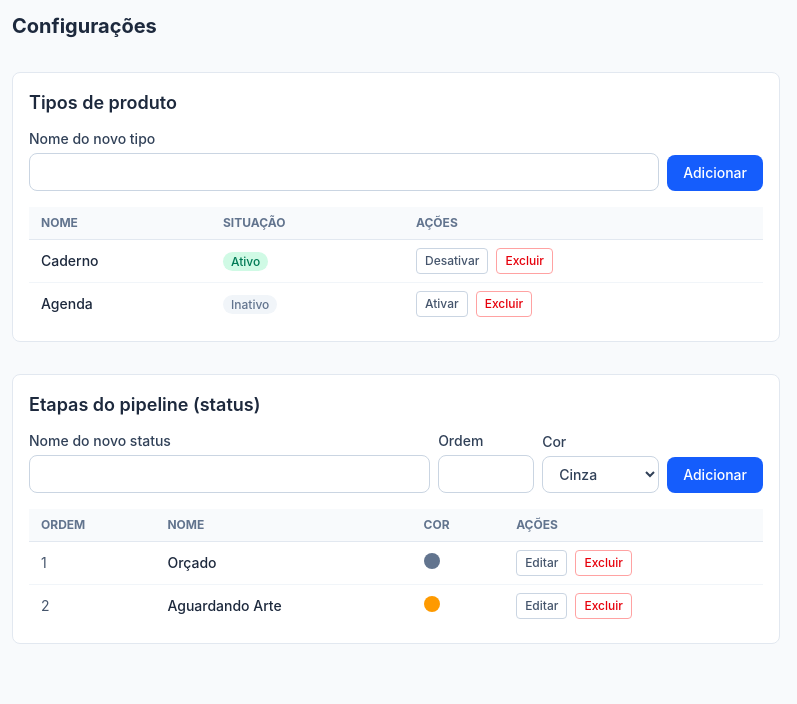
Test case: ConfigPage — tipos de produto (RF02) › adiciona novo tipo de produto
Type "Fichário" into the field labelled "Nome do novo tipo". click: (344, 172)
box: x1=29 y1=153 x2=659 y2=191
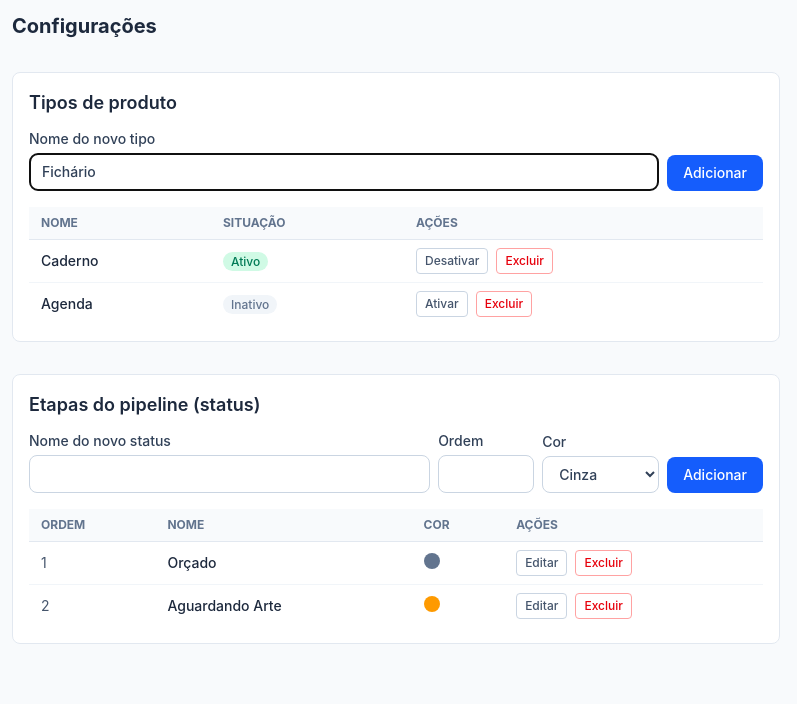
Click the 1st button "Adicionar". click: click(715, 173)
box: x1=667 y1=155 x2=763 y2=191
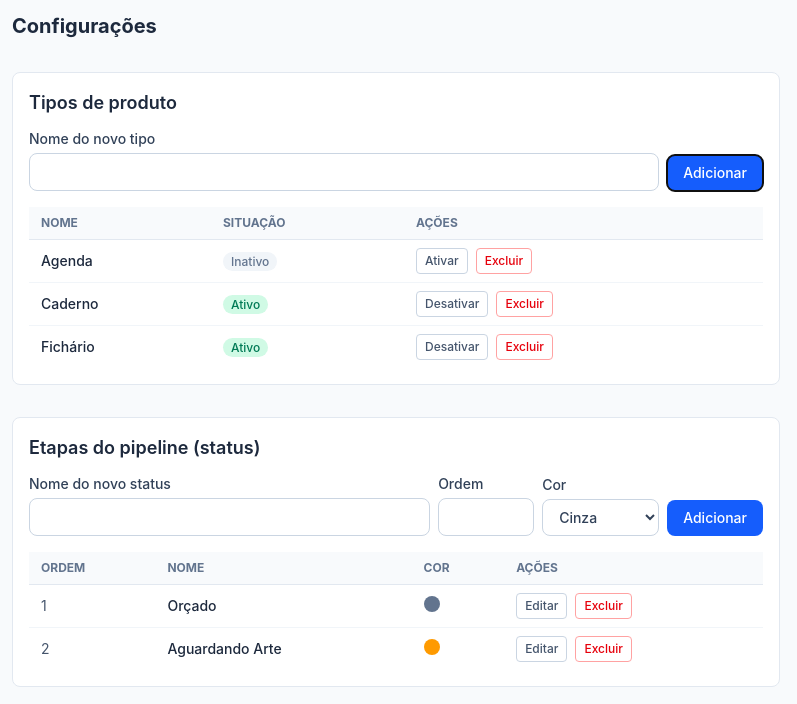
Expected: the text "Fichário" is shown, x1=29 y1=326 x2=211 y2=368
